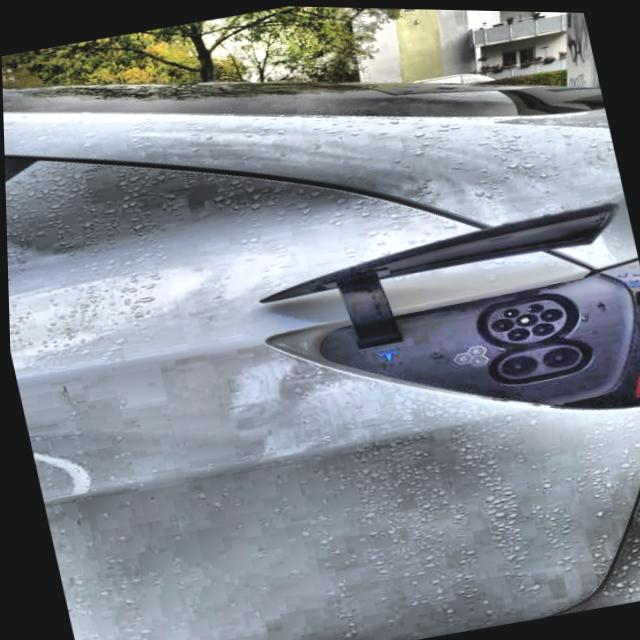inlet: (486, 298, 565, 341)
inlet-above-left: (502, 306, 518, 316)
inlet-above-right: (526, 301, 542, 311)
inlet-below-left: (505, 326, 529, 339)
inlet-below-right: (530, 320, 553, 334)
inlet-center: (514, 311, 537, 325)
inlet-center-left: (490, 316, 513, 330)
inlet-center-right: (538, 306, 561, 319)
